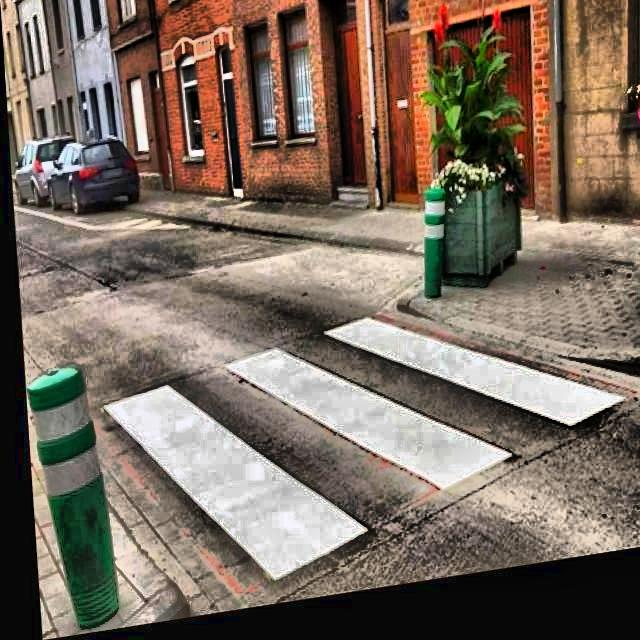faixa de pedestre: (101, 306, 625, 601)
